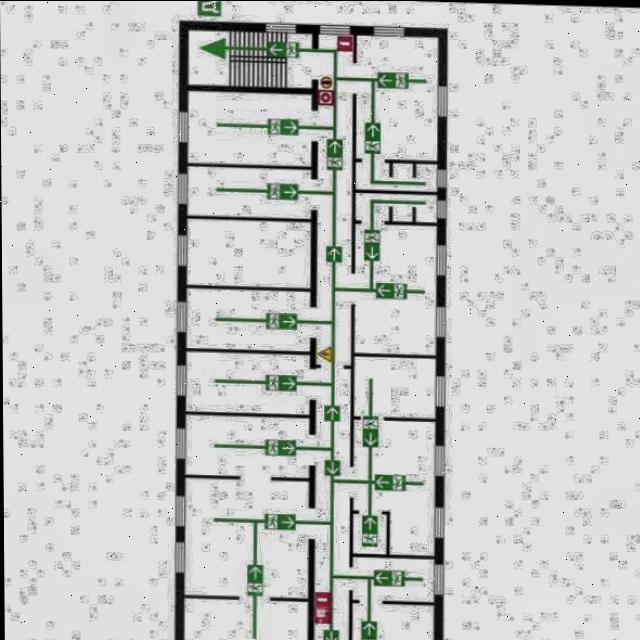room: (317, 33, 355, 640), (184, 477, 311, 596), (354, 417, 436, 552), (356, 221, 436, 351), (354, 33, 435, 158), (186, 88, 312, 160), (186, 218, 311, 285), (185, 351, 312, 413), (186, 288, 311, 348), (186, 415, 310, 475), (187, 29, 311, 86), (185, 165, 314, 214), (187, 595, 311, 640), (354, 354, 438, 413), (352, 554, 436, 597), (355, 600, 434, 640), (355, 509, 388, 552), (355, 158, 391, 187), (356, 190, 390, 218), (392, 158, 413, 188), (417, 161, 439, 189), (416, 191, 437, 219), (392, 190, 412, 218)
